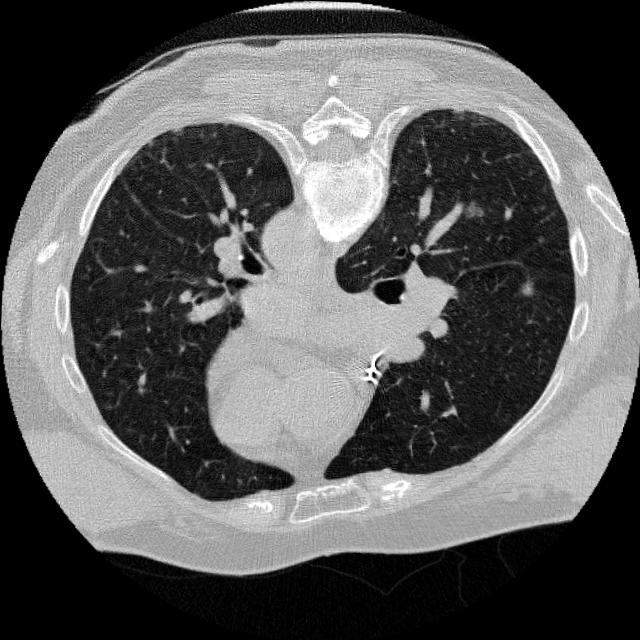nodule: (512, 275, 542, 304)
